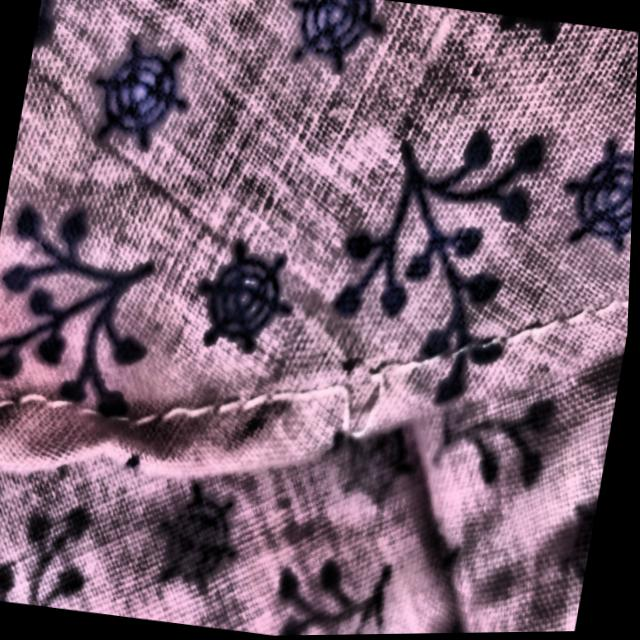Stitch: (294, 322, 444, 509)
